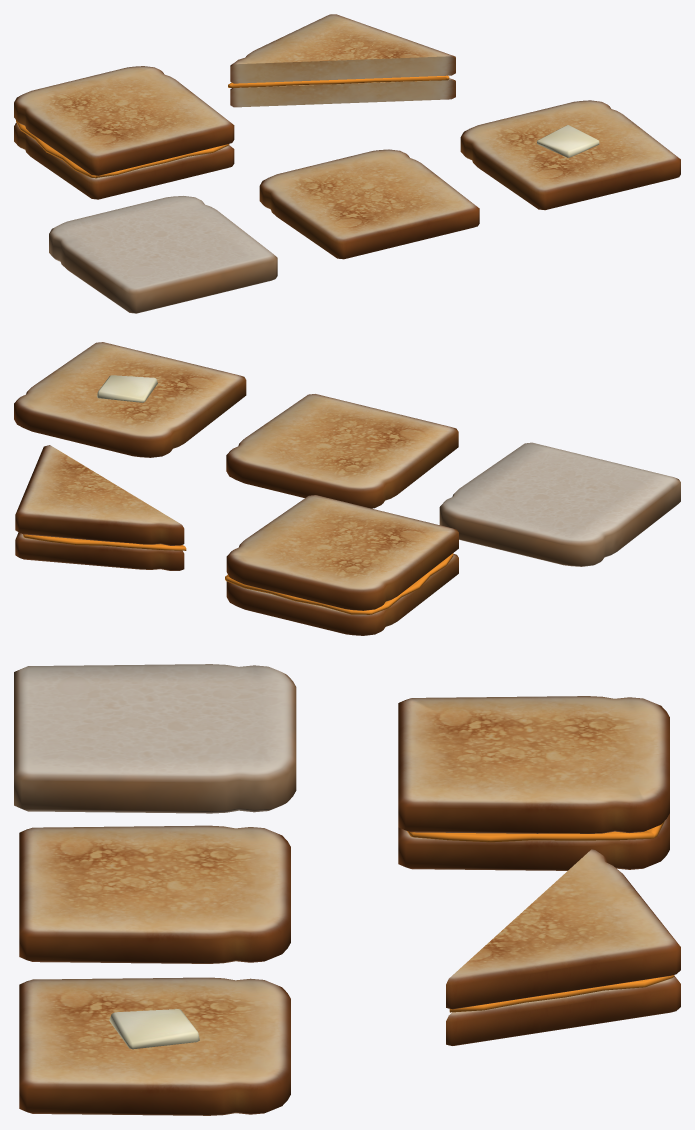
File: Toast.fbx
3 renders of one model, top to bottom at view 1: azimuth 30°, elevation 25°; view 2: azimuth 150°, elevation 25°; view 3: azimuth 270°, elevation 25°, orthographic. The views are drawn at different scales.
Parts seen in each view (by area): view 1: Bread_Slice, Bread_ButterToast, Bread_Toasted, Bread_HalfB001, Bread_HalfB, Bread_HalfA, GrilledCheese_HalfB001, GrilledCheese_HalfB, GrilledCheese_HalfA; view 2: Bread_Slice, Bread_ButterToast, Bread_Toasted, Bread_HalfA, Bread_HalfB001, Bread_HalfB, GrilledCheese_HalfA, GrilledCheese_HalfB001; view 3: Bread_Slice, Bread_ButterToast, Bread_Toasted, Bread_HalfB, Bread_HalfB001, Bread_HalfA, GrilledCheese_HalfB, GrilledCheese_HalfB001.
Boxes of the visible parts, x1,y1,x2,y2 form: Bread_Slice: (49, 196, 277, 313); Bread_ButterToast: (460, 100, 680, 210); Bread_Toasted: (259, 149, 479, 259); Bread_HalfB001: (230, 14, 455, 107); Bread_HalfB: (94, 67, 234, 199); Bread_HalfA: (14, 66, 151, 199); GrilledCheese_HalfB001: (228, 75, 449, 87); GrilledCheese_HalfB: (96, 144, 229, 177); GrilledCheese_HalfA: (16, 120, 96, 178); Bread_Slice: (439, 442, 680, 566); Bread_ButterToast: (14, 342, 246, 457); Bread_Toasted: (226, 394, 458, 508); Bread_HalfA: (227, 529, 458, 635); Bread_HalfB001: (15, 445, 184, 570); Bread_HalfB: (226, 495, 457, 597); GrilledCheese_HalfA: (225, 553, 453, 614); GrilledCheese_HalfB001: (23, 534, 186, 550); Bread_Slice: (14, 664, 296, 813); Bread_ButterToast: (19, 977, 290, 1115); Bread_Toasted: (19, 825, 290, 963); Bread_HalfB: (398, 700, 650, 870); Bread_HalfB001: (446, 849, 680, 1045); Bread_HalfA: (404, 696, 669, 865); GrilledCheese_HalfB: (407, 831, 653, 842); GrilledCheese_HalfB001: (449, 975, 674, 1012).
Bounding box in the file's own units: 1.28 × 0.0989 × 0.8545.
